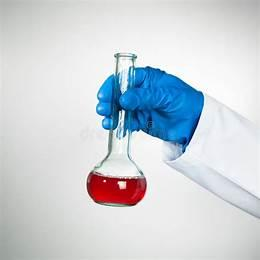Volumetric flask: (81, 39, 161, 209)
